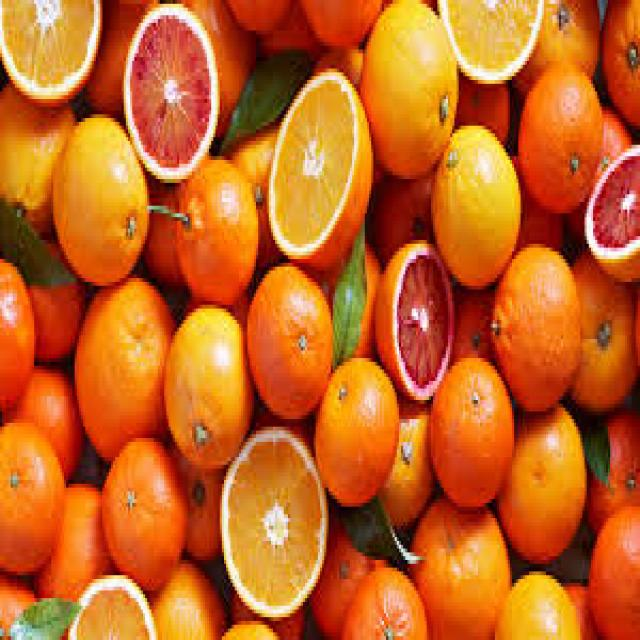orange: (246, 265, 335, 423)
